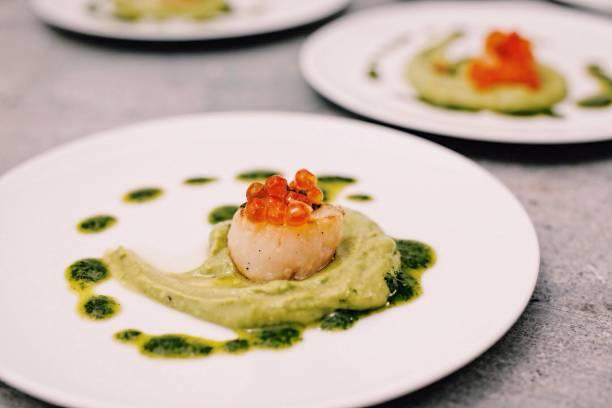Braised Crucian Carp: (0, 110, 536, 407), (298, 1, 611, 147)
